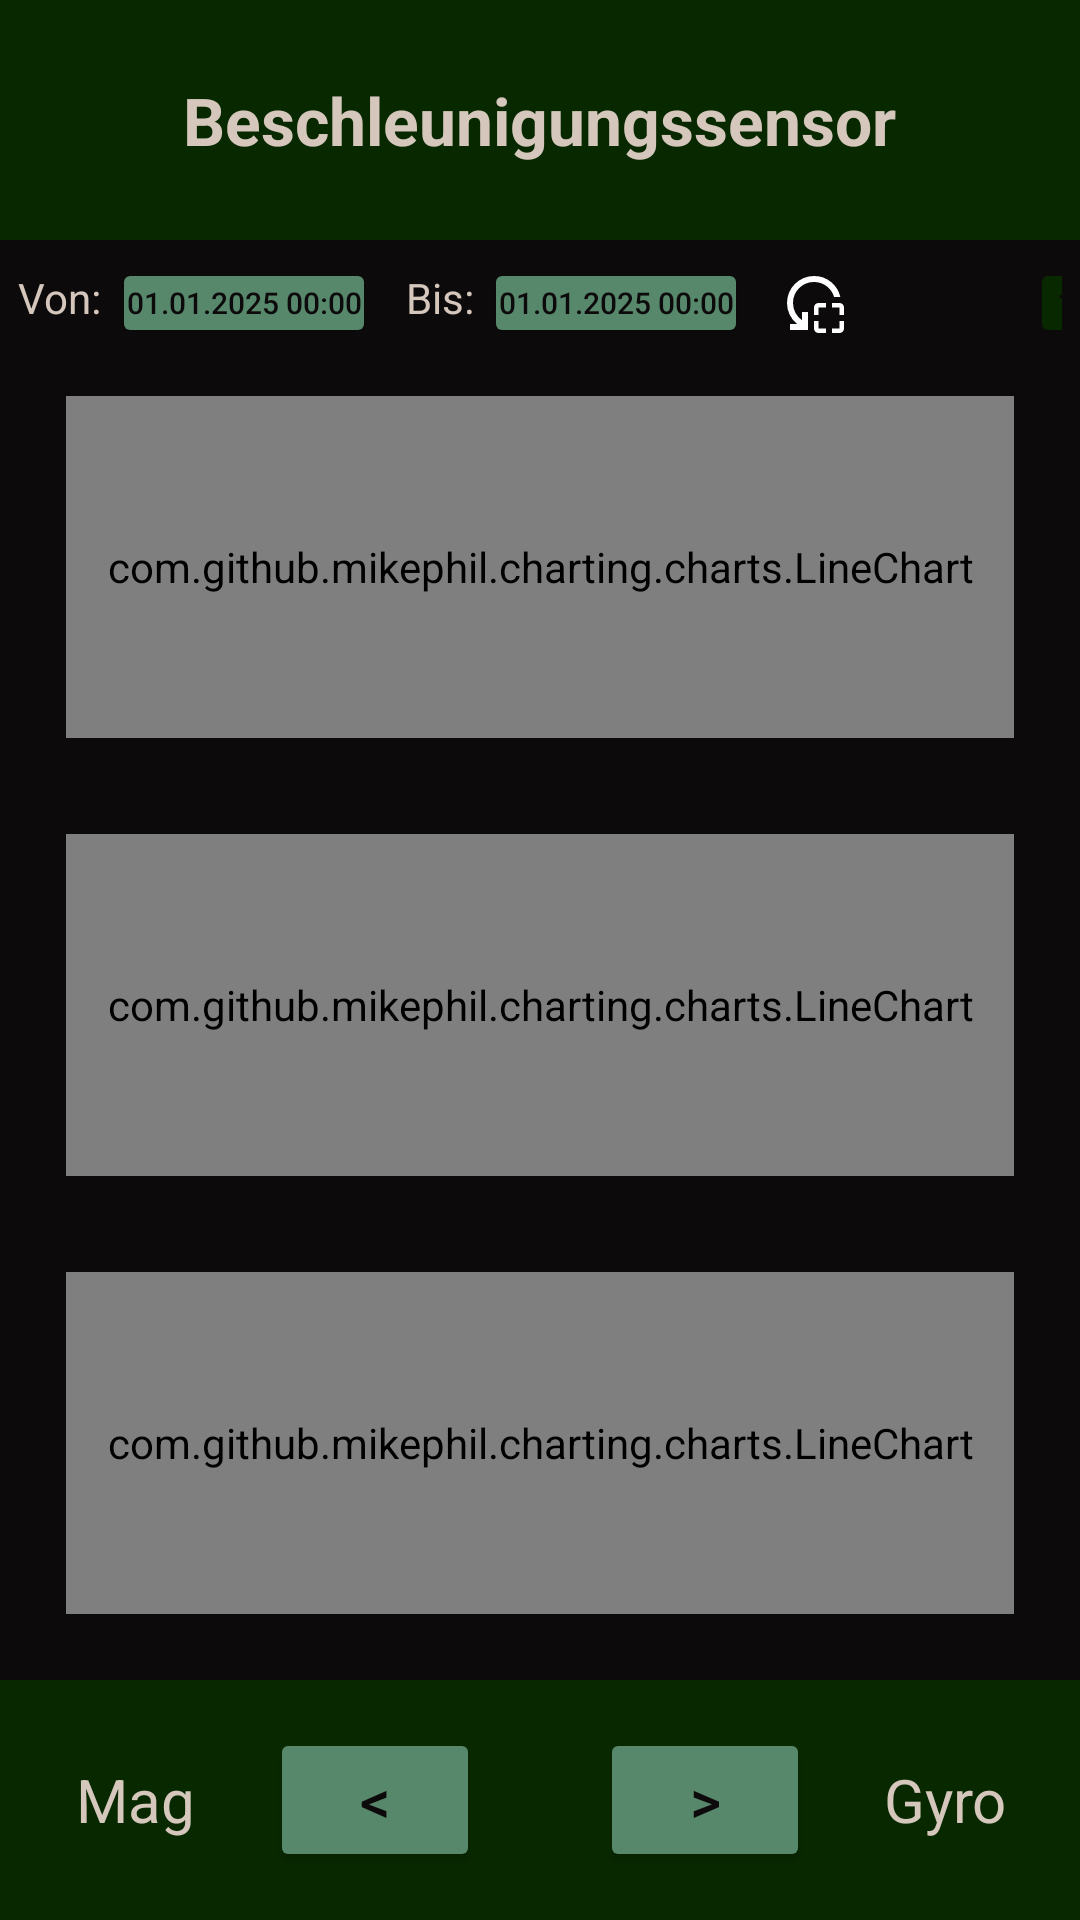

Where icons sit on this 1080×1920 app screen, as (x1, y1, x2, y2):
reset focus: (787, 276, 844, 333)
